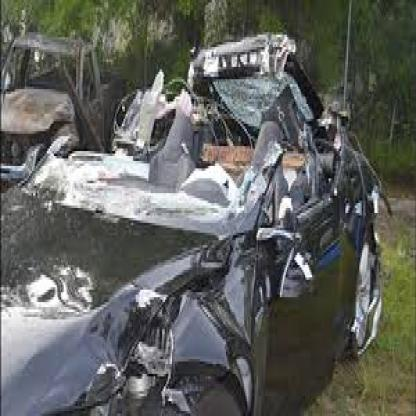accident: (1, 79, 416, 416), (3, 18, 104, 149)
